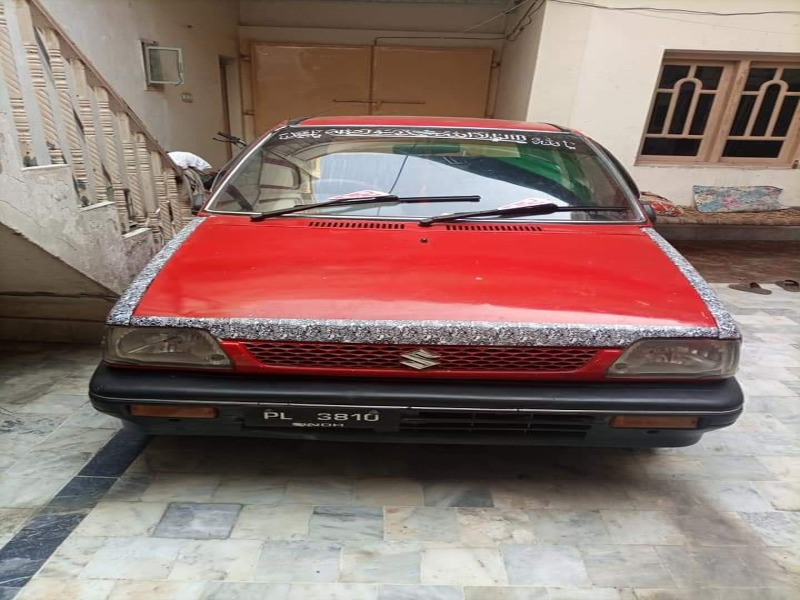License Plate: (242, 399, 406, 435)
